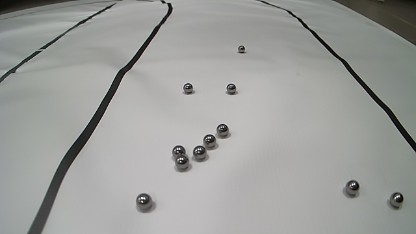ironball: (136, 193, 152, 210), (345, 180, 359, 196), (389, 192, 403, 207), (175, 155, 189, 169), (193, 145, 206, 160), (203, 134, 216, 148), (216, 123, 229, 137), (172, 145, 185, 157), (226, 83, 236, 94), (183, 83, 193, 94), (238, 45, 245, 53)
